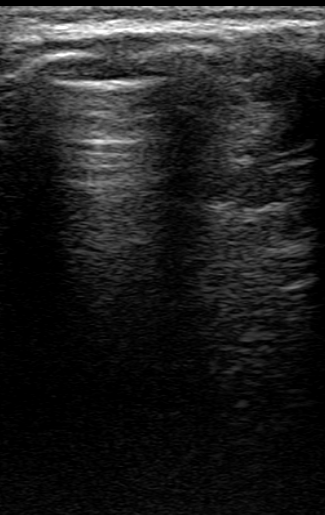irrelevant: (1, 1, 325, 29)
